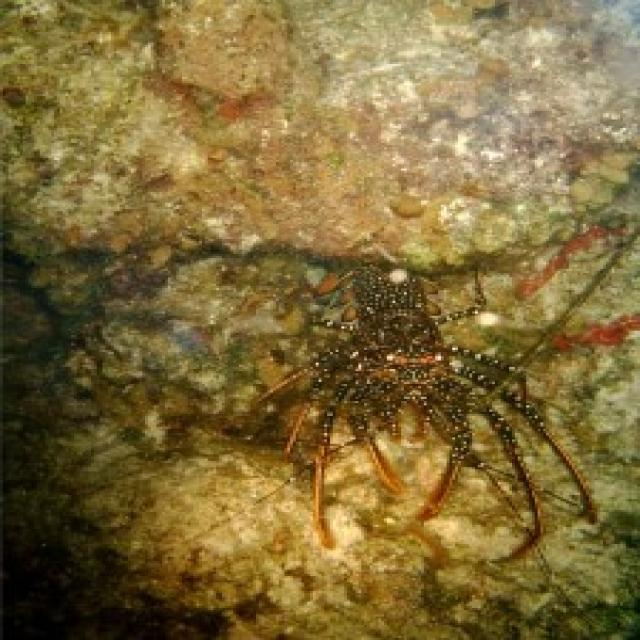lobsters: (158, 191, 640, 557)
